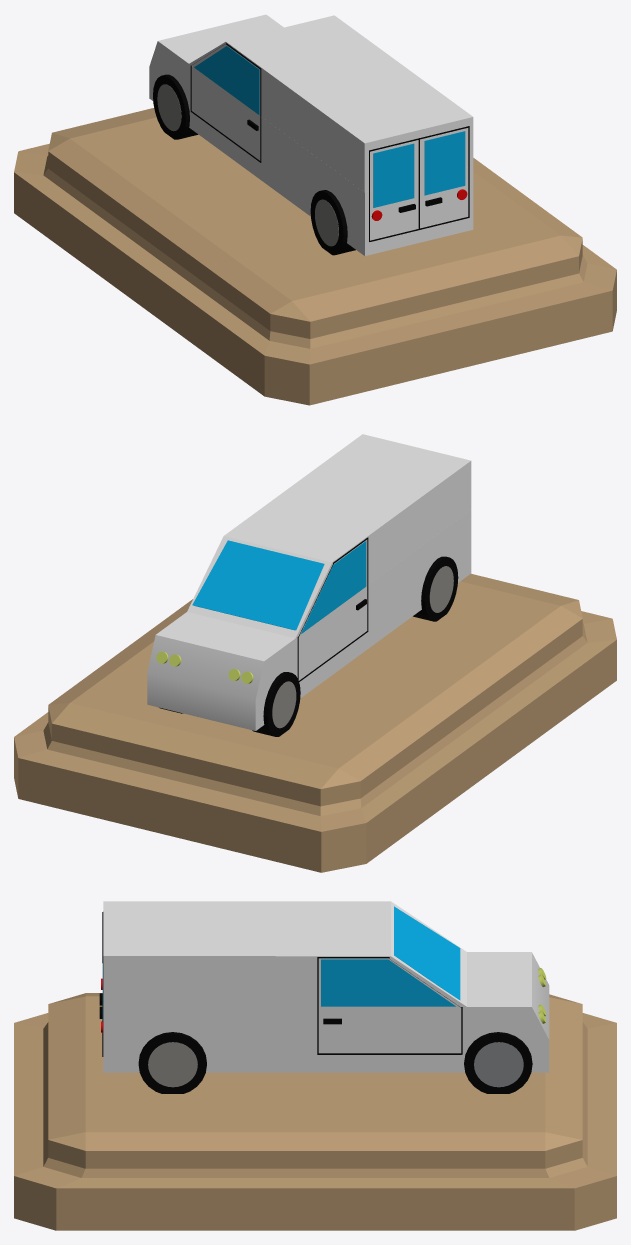
Rendered from toycar.fbx.
3 views of the same model, one above another, from view 1: azimuth 30°, elevation 25°; view 2: azimuth 150°, elevation 25°; view 3: azimuth 270°, elevation 25° (orthographic). The views are drawn at different scales.
Parts seen in each view (by area): view 1: wscc, body, backDoors, wheels, driverDoor; view 2: wscc, body, wheels, driverDoor; view 3: wscc, body, wheels, passengerDoor.
Part boxes in pixels (<box>): wscc: <box>14,108,616,405</box>; body: <box>149,14,473,255</box>; backDoors: <box>369,126,469,241</box>; wheels: <box>153,74,355,255</box>; driverDoor: <box>190,43,261,162</box>; wscc: <box>14,573,616,872</box>; body: <box>147,434,471,730</box>; wheels: <box>159,556,458,736</box>; driverDoor: <box>297,537,368,681</box>; wscc: <box>14,993,616,1230</box>; body: <box>103,901,549,1072</box>; wheels: <box>138,1032,532,1093</box>; passengerDoor: <box>317,957,462,1054</box>.
Bounding box in the file's own units: 48.43 × 27.12 × 69.34.
